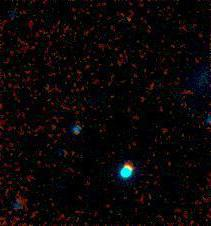star: (113, 4, 143, 34)
